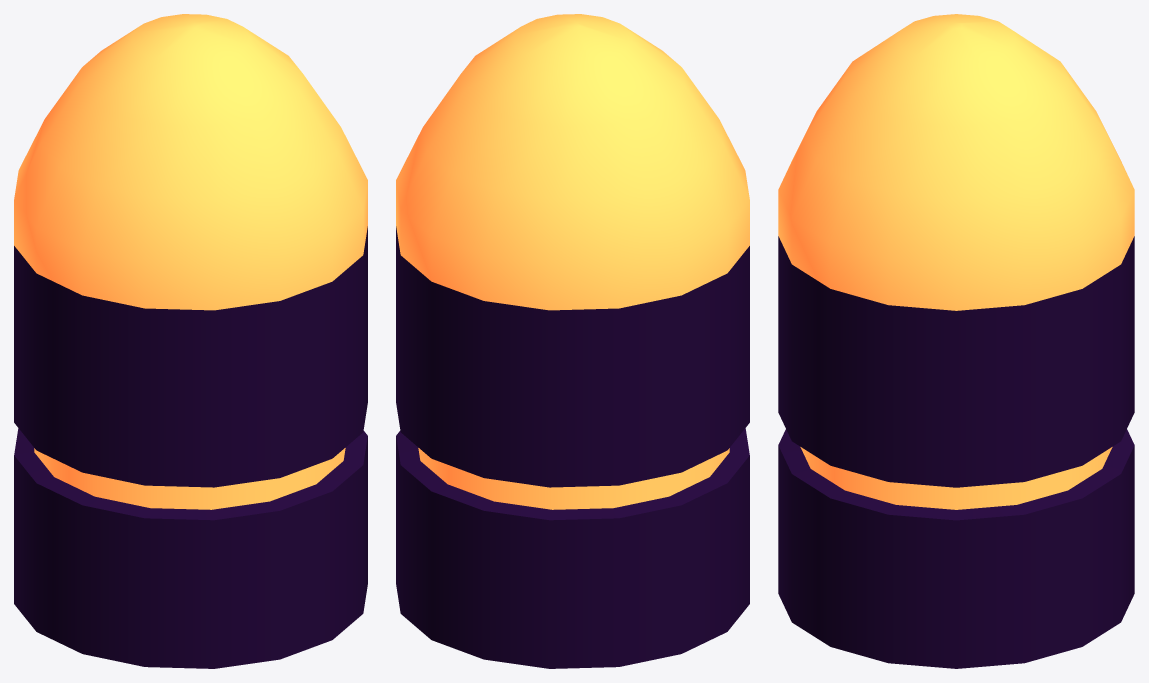
The model's file is bullet_orange.fbx.
The picture shows the model from 3 angles, left to right: view 1: azimuth 30°, elevation 25°; view 2: azimuth 150°, elevation 25°; view 3: azimuth 270°, elevation 25°; orthographic projection.
Parts seen in each view (by area): view 1: Cylinder.006; view 2: Cylinder.006; view 3: Cylinder.006.
Part boxes in pixels (x1,y1,x2,y2): Cylinder.006: (14,14,367,668); Cylinder.006: (396,14,749,668); Cylinder.006: (778,14,1134,668).
Size of the model in its own units: 21.57 by 37.92 by 21.57.
